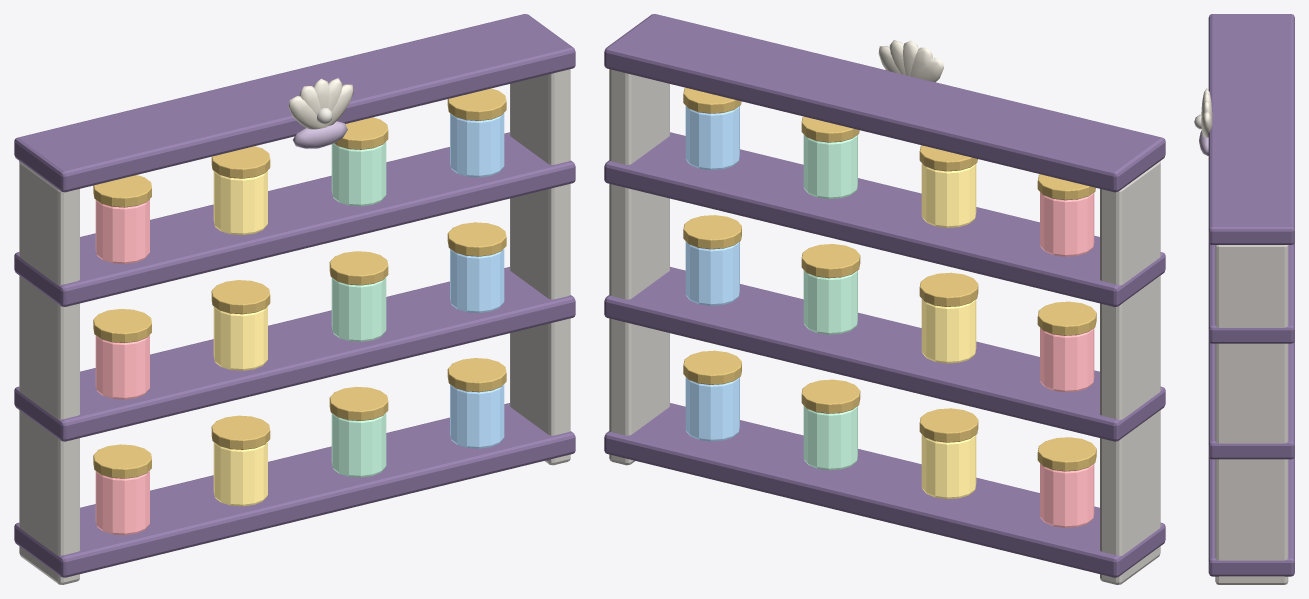
The model's file is pearl_pantry_shelf.glb.
The picture shows the model from 3 angles, left to right: view 1: azimuth 30°, elevation 25°; view 2: azimuth 150°, elevation 25°; view 3: azimuth 270°, elevation 25°; orthographic projection. The views are drawn at different scales.
Parts seen in each view (by area): view 1: pearl_pantry_shelf.001; view 2: pearl_pantry_shelf.001; view 3: pearl_pantry_shelf.001.
Part boxes in pixels (bbox=[...]): pearl_pantry_shelf.001: bbox=[14, 14, 575, 584]; pearl_pantry_shelf.001: bbox=[604, 14, 1165, 584]; pearl_pantry_shelf.001: bbox=[1194, 14, 1294, 584].
Size of the model in its own units: 10.8 by 9.02 by 2.13.
